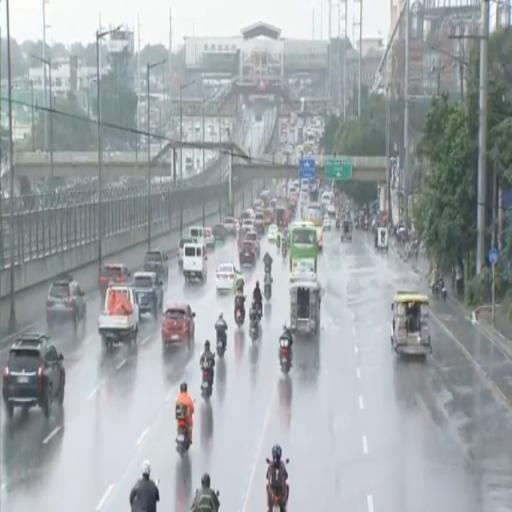bus: (289, 221, 318, 277), (304, 203, 323, 249)
car: (3, 333, 65, 419), (46, 276, 86, 330), (162, 303, 195, 350), (133, 271, 163, 318), (99, 264, 131, 299), (144, 249, 168, 283), (216, 263, 236, 292), (178, 237, 193, 267), (240, 240, 257, 266), (245, 231, 260, 257), (212, 224, 226, 242), (204, 228, 215, 250), (254, 211, 264, 234), (224, 217, 236, 235), (267, 224, 278, 242), (240, 219, 254, 230), (241, 208, 254, 219), (327, 203, 335, 216), (323, 216, 330, 230)
jeepney: (391, 292, 431, 356), (290, 279, 324, 333)
motorcycle: (176, 405, 190, 456), (270, 486, 287, 511), (280, 336, 291, 374), (431, 278, 447, 302), (201, 368, 212, 399), (216, 330, 226, 358), (235, 299, 245, 327), (250, 309, 258, 341), (264, 273, 272, 301), (253, 301, 262, 321), (282, 240, 287, 258), (441, 283, 446, 301), (276, 236, 281, 248), (191, 505, 200, 511), (336, 217, 340, 229)
truck: (98, 284, 139, 348)
